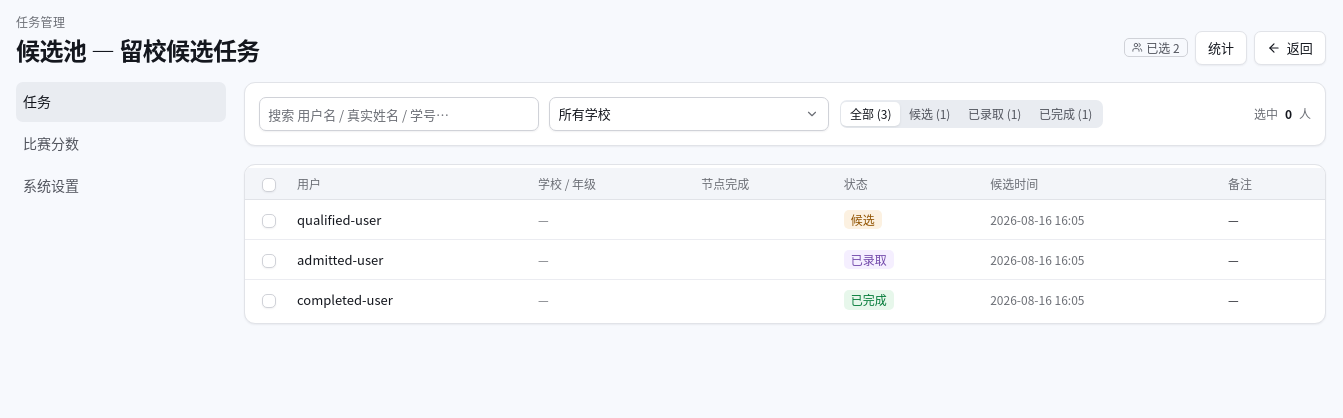
it: task candidate admission actions › rejects a mixed-state selection instead of sending a partial batch
Click the 2nd checkbox.
click(269, 221)  # box [262, 214, 276, 228]
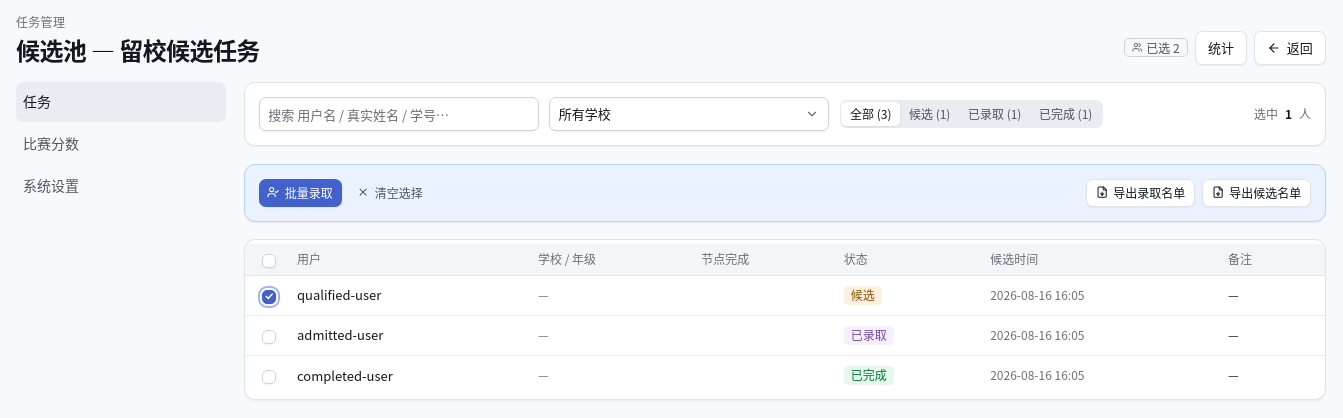
Click the 3rd checkbox.
click(269, 337)  # box [262, 330, 276, 344]
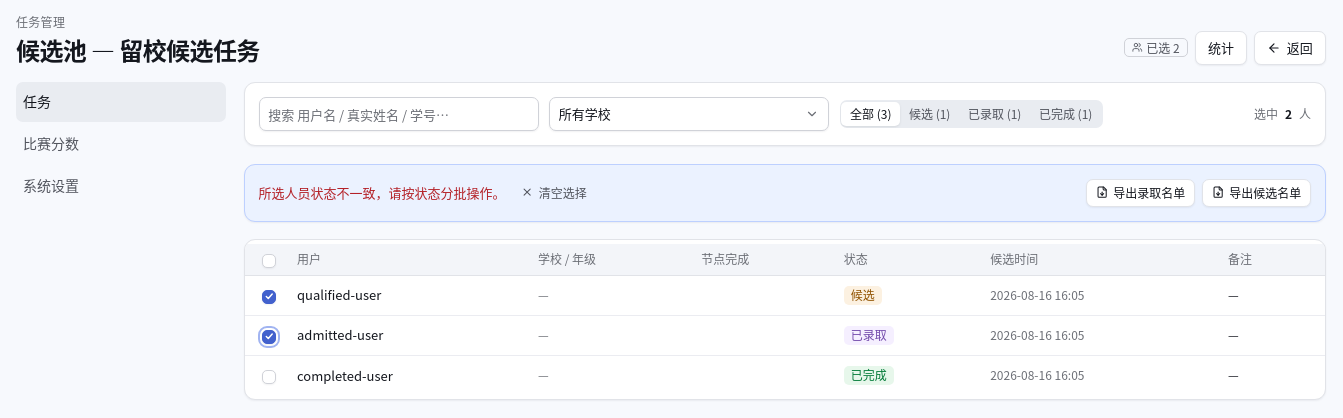
Check: the text "所选人员状态不一致，请按状态分批操作。" is shown, box [258, 183, 506, 202]
Check: the button "批量录取" is gone
